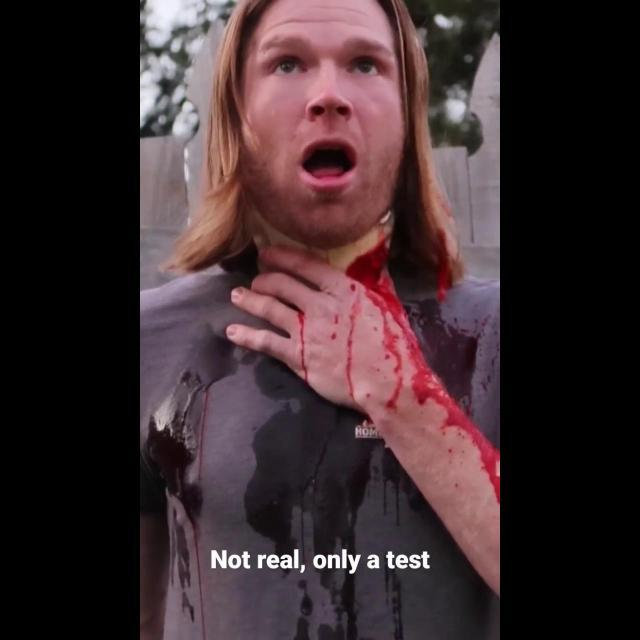blood: (346, 241, 500, 503), (405, 300, 482, 423), (328, 314, 365, 414), (275, 296, 309, 385), (484, 312, 499, 446), (437, 232, 453, 301), (275, 274, 302, 289)
